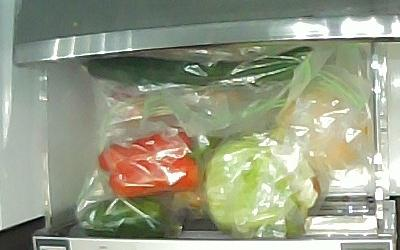cucumber_vinyl: (82, 45, 315, 86)
lettuce_vinyl: (206, 129, 321, 240)
paprika_vinyl: (96, 128, 214, 192), (81, 195, 179, 237)
